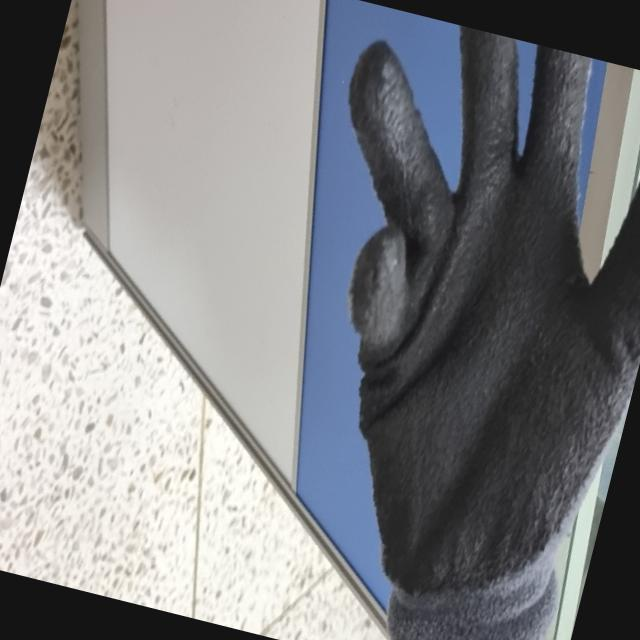Gloves: (350, 18, 640, 640)
